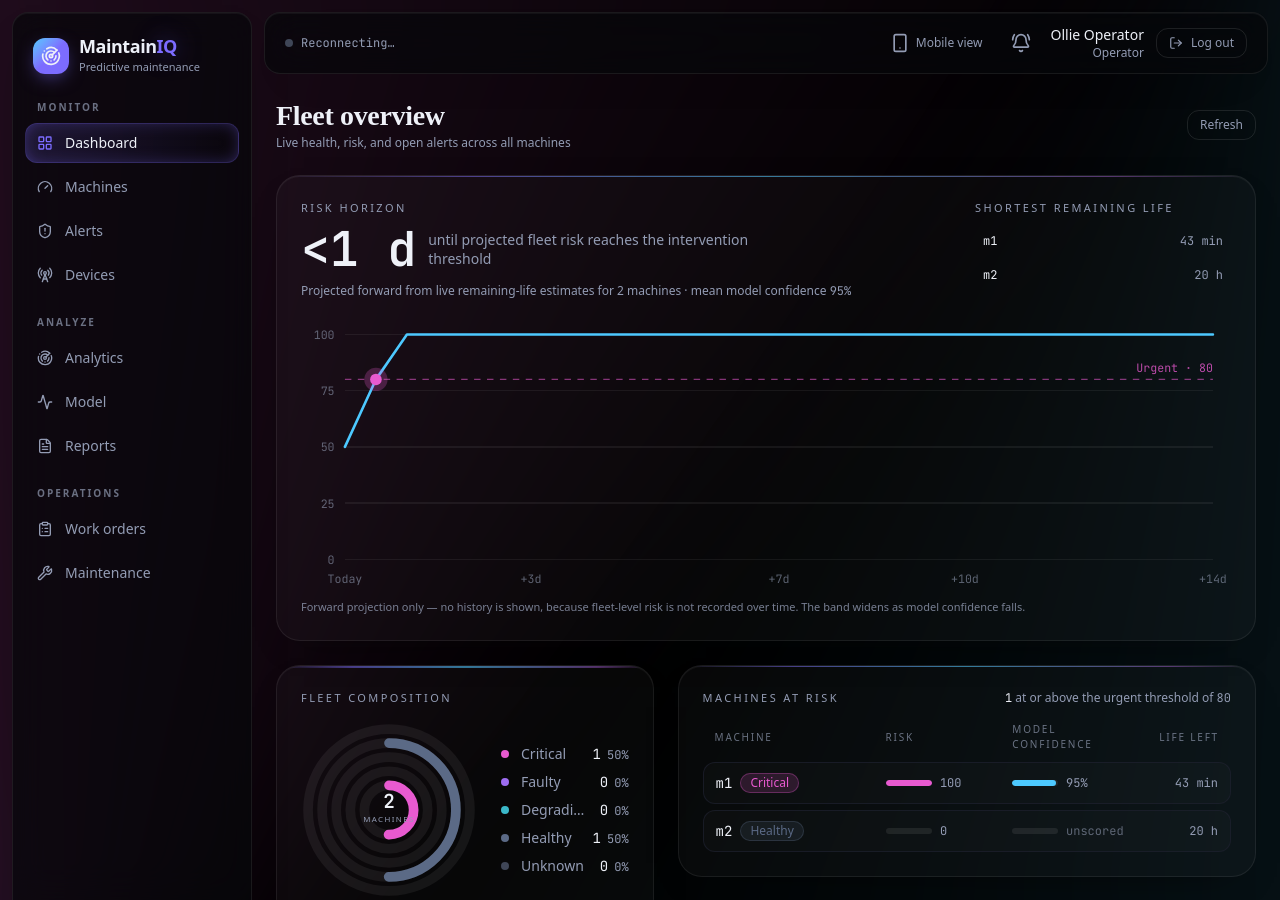
Scenario: App › lets an operator open the Devices page from the nav
Click the link "Devices" at [76, 274], box [37,264,115,284]
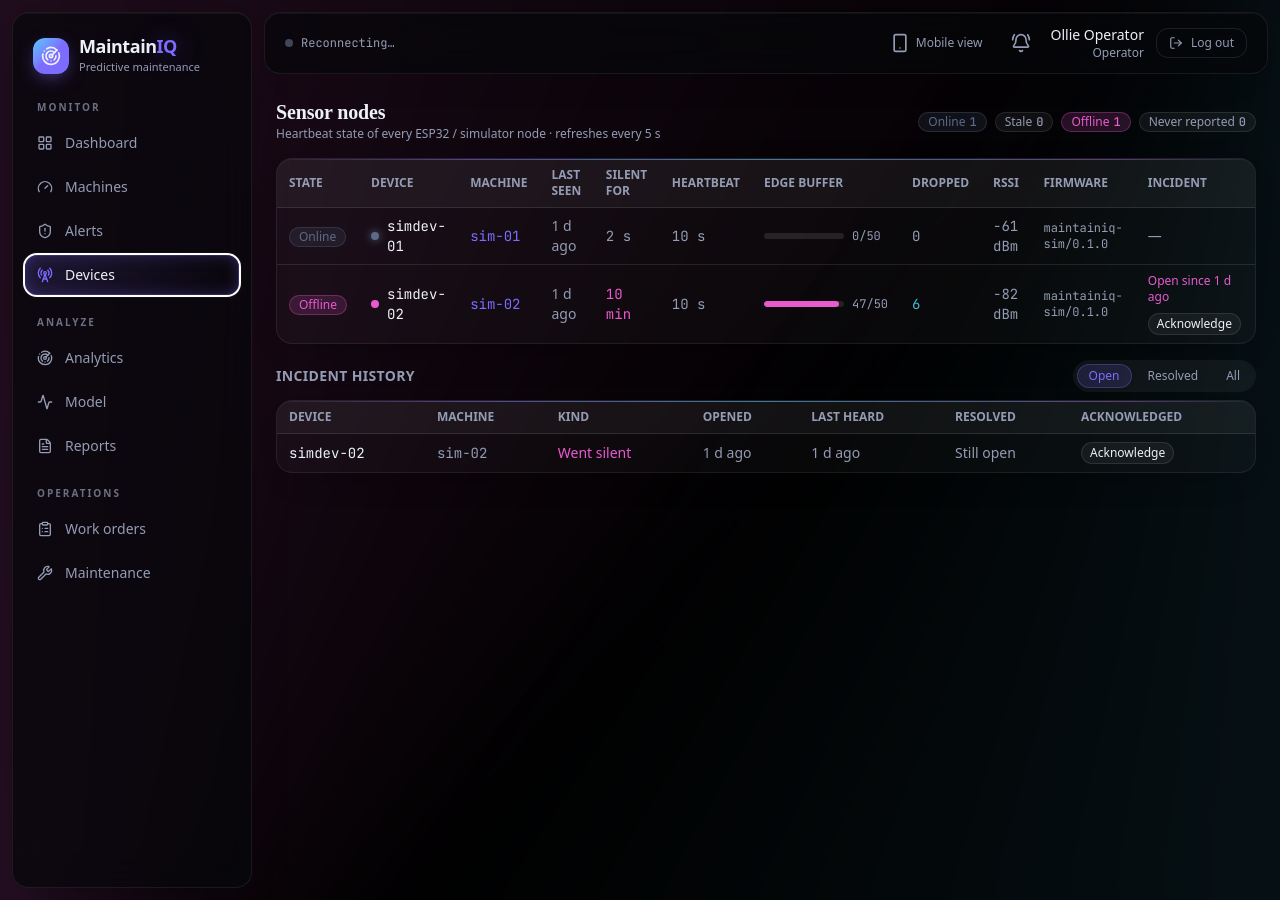
Expected: the heading "Sensor nodes" is shown, [276,101,385,123]
Expected: the table named "telemetry devices" is shown, [277,159,1255,343]
